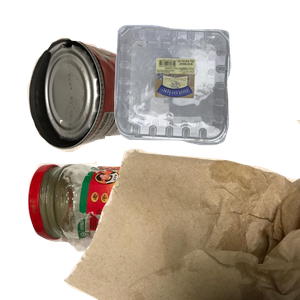glass: (25, 155, 227, 300)
metal: (25, 35, 189, 180)
plastic: (112, 22, 300, 160)
trash: (60, 120, 300, 300)
